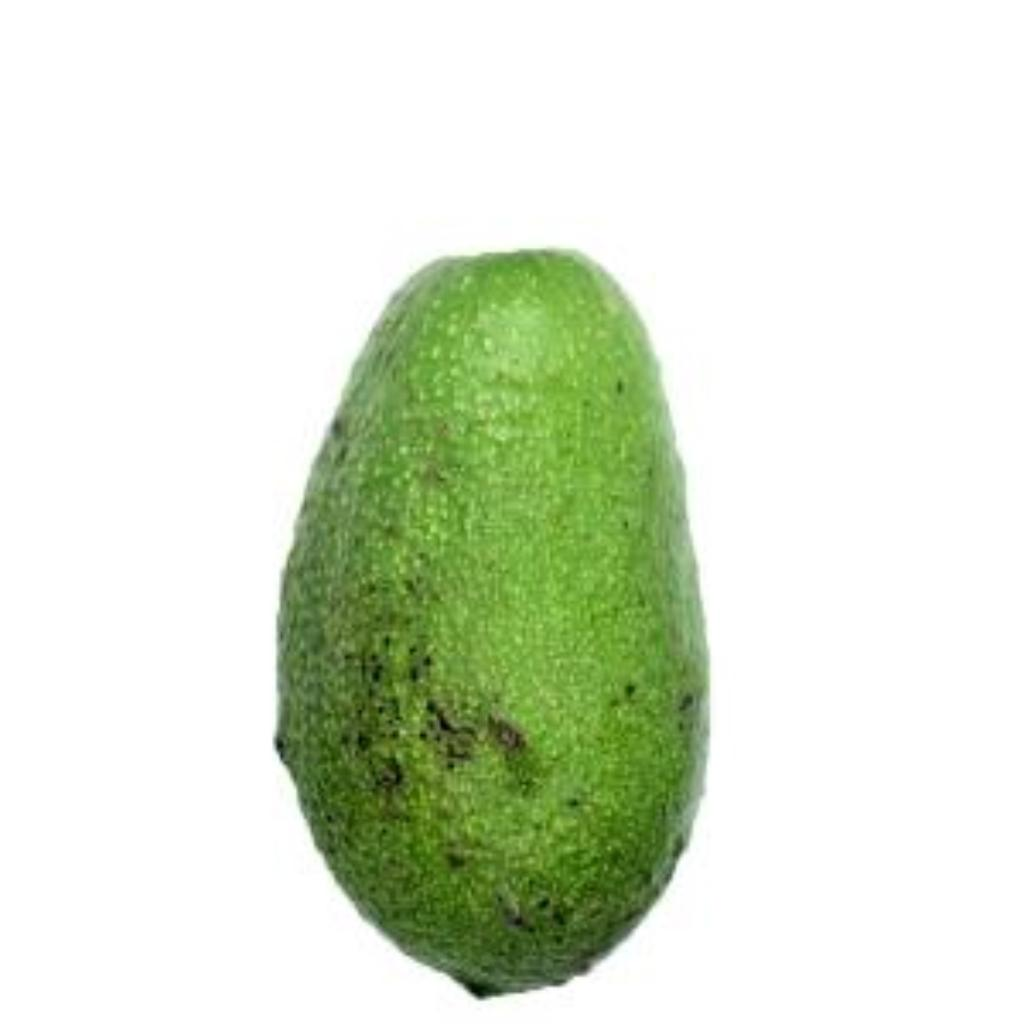cercospora_spot: (261, 222, 729, 1014)
